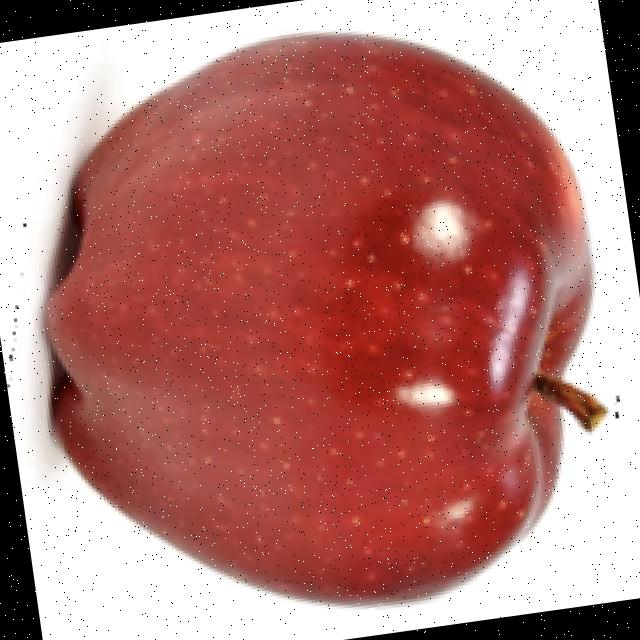apple: (22, 28, 623, 613)
